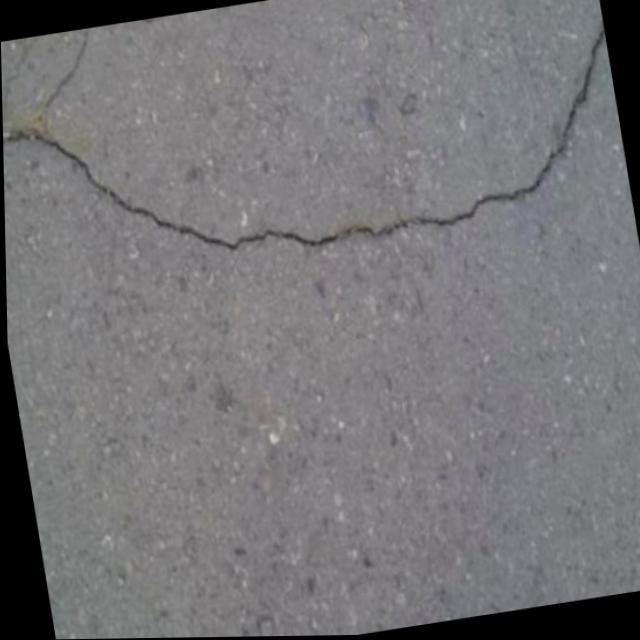Crack: (0, 0, 634, 310)
